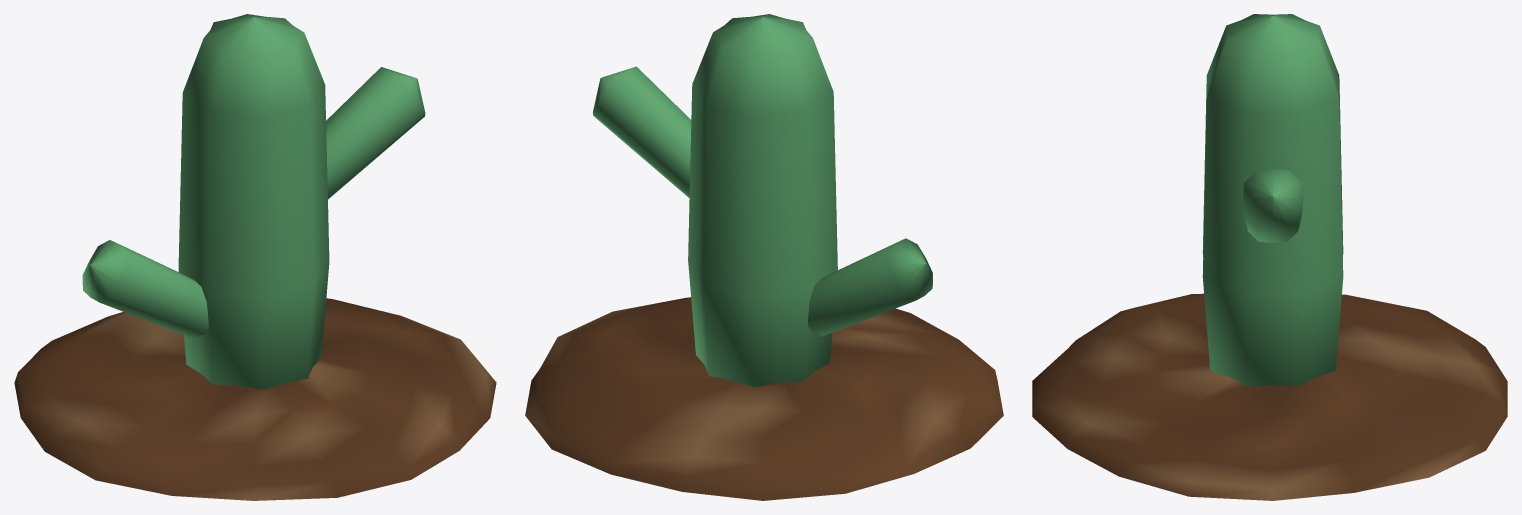
File: plant-dragon-2.gltf
The picture shows the model from 3 angles, left to right: view 1: azimuth 30°, elevation 25°; view 2: azimuth 150°, elevation 25°; view 3: azimuth 270°, elevation 25°; orthographic projection.
Size of the model in its own units: 1.28 by 1.12 by 1.26.
